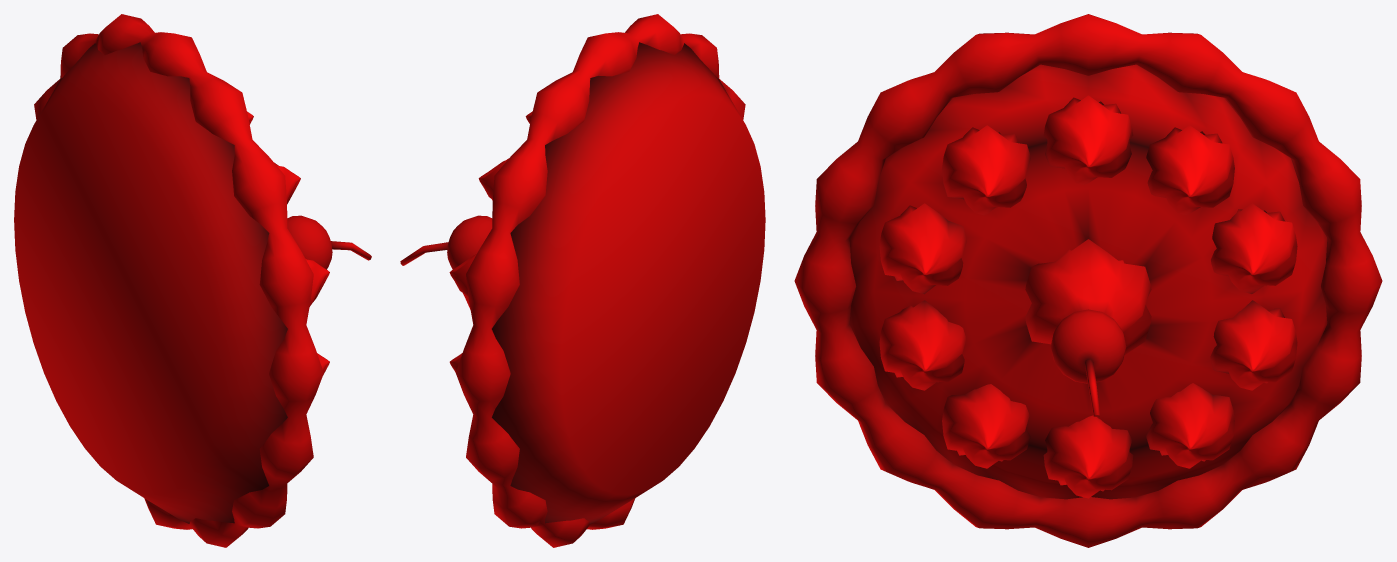
Rendered from pie.glb.
3 renders of one model, left to right at view 1: azimuth 30°, elevation 25°; view 2: azimuth 150°, elevation 25°; view 3: azimuth 270°, elevation 25°, orthographic. The views are drawn at different scales.
Visible parts, largest first — view 1: Pie; view 2: Pie; view 3: Pie.
Boxes of the visible parts, bbox=[...] form: Pie: bbox=[14, 14, 371, 547]; Pie: bbox=[400, 14, 765, 547]; Pie: bbox=[794, 14, 1382, 547].
Bounding box in the file's own units: 0.1529 × 0.28 × 0.28.
